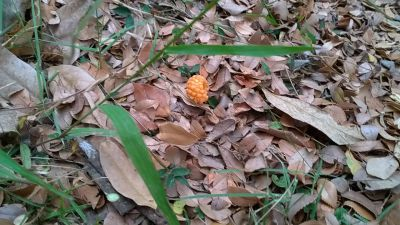eggs: (182, 73, 212, 105)
